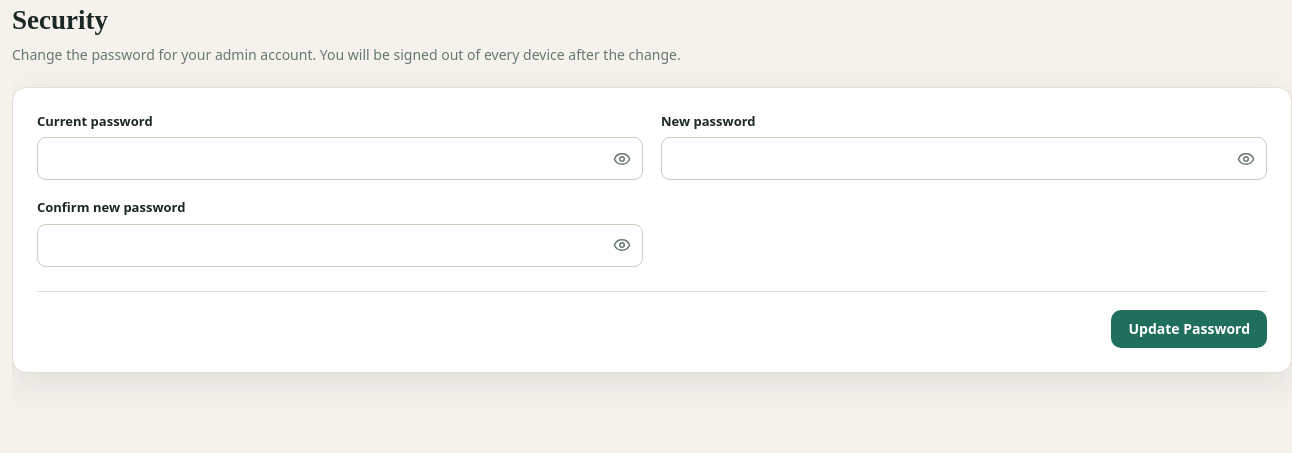
Test: security page › validates that all password fields are filled
Expected: the heading "Security" is shown, [12, 5, 108, 35]
Click the button "Update Password": [1189, 329] box [1112, 310, 1267, 348]
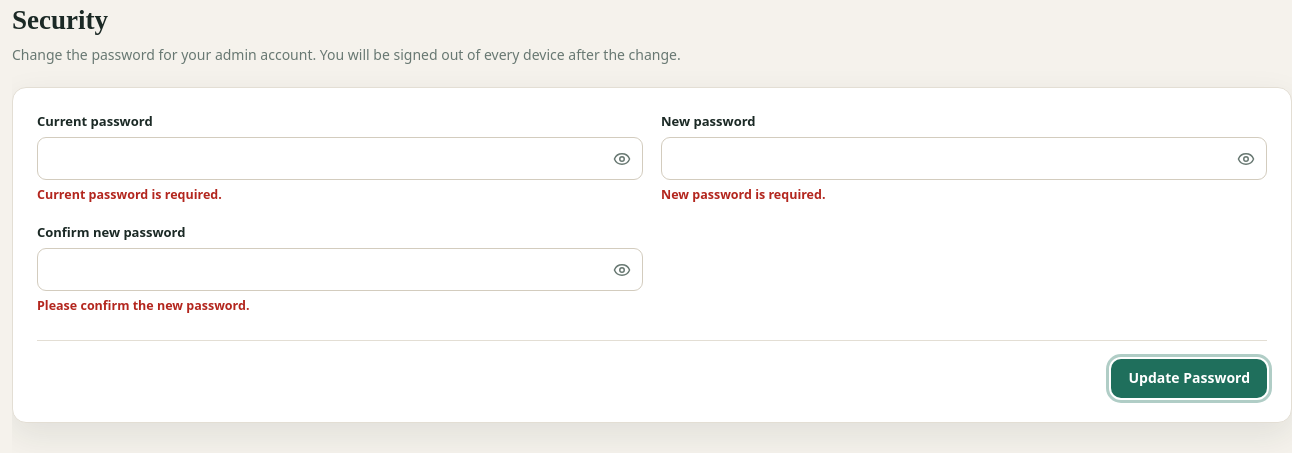
Expected: the text "Current password is required." is shown, [37, 186, 222, 203]
Expected: the text "New password is required." is shown, [661, 186, 826, 203]
Expected: the text "Please confirm the new password." is shown, [37, 297, 250, 314]
